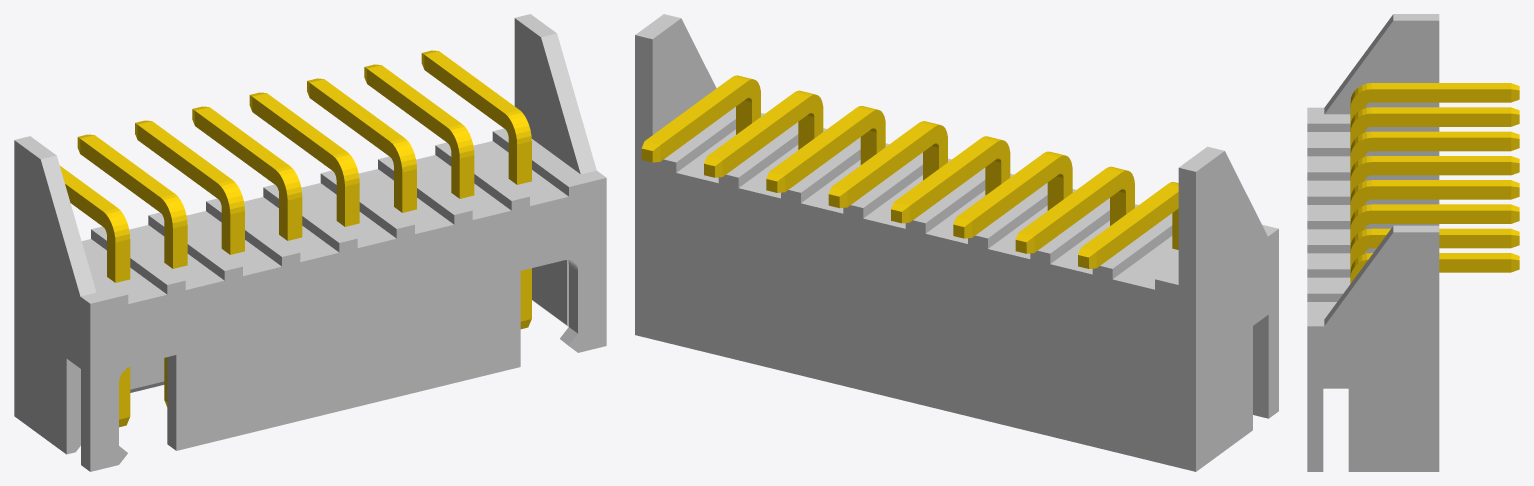
Rendered from DS1069-8 CWF-8R.obj.
3 renders of one model, left to right at view 1: azimuth 30°, elevation 25°; view 2: azimuth 150°, elevation 25°; view 3: azimuth 270°, elevation 25°, orthographic. The views are drawn at different scales.
Visible parts, largest first — view 1: DS1069-8_CWF-8R; view 2: DS1069-8_CWF-8R; view 3: DS1069-8_CWF-8R.
Part boxes in pixels (box(x1,y1,x2,y2)): DS1069-8_CWF-8R: box(14, 14, 606, 471); DS1069-8_CWF-8R: box(635, 14, 1278, 471); DS1069-8_CWF-8R: box(1307, 14, 1519, 471).
Size of the model in its own units: 0.0107 by 0.00546 by 0.00439.
